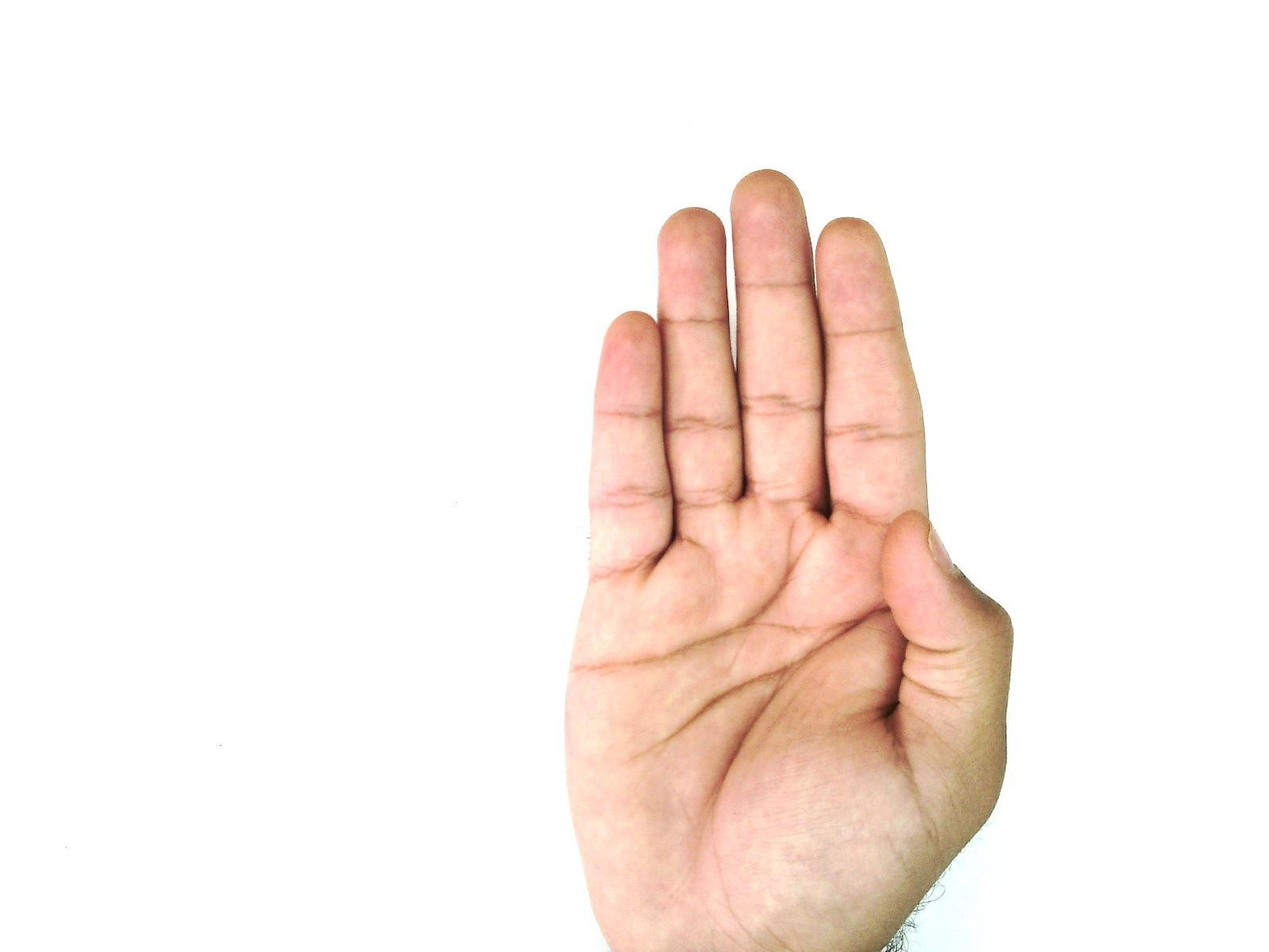open_palm: (561, 168, 1017, 951)
